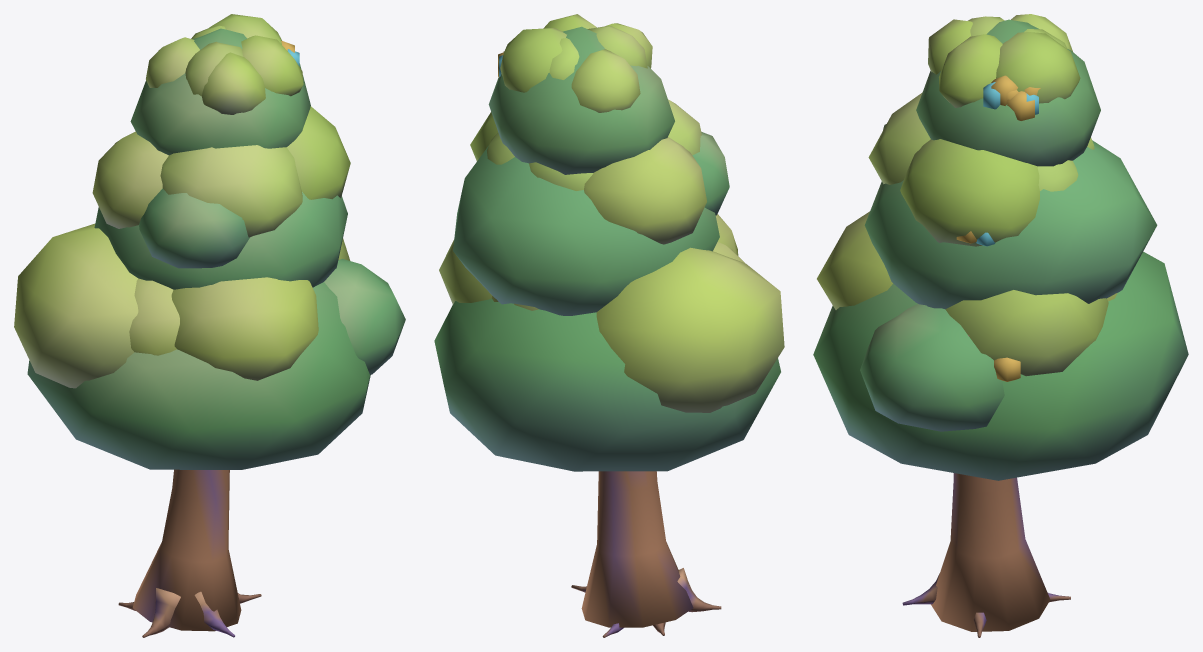
File: verdant_tree_puffcap_a.glb
3 views of the same model, side by side, from view 1: azimuth 30°, elevation 25°; view 2: azimuth 150°, elevation 25°; view 3: azimuth 270°, elevation 25° (orthographic). The views are drawn at different scales.
Parts seen in each view (by area): view 1: verdant_tree_puffcap_a; view 2: verdant_tree_puffcap_a; view 3: verdant_tree_puffcap_a.
Part boxes in pixels (x1,y1,x2,y2): verdant_tree_puffcap_a: (14,14,405,637); verdant_tree_puffcap_a: (434,14,784,637); verdant_tree_puffcap_a: (813,14,1188,637).
Size of the model in its own units: 5.95 by 9.86 by 5.48.
